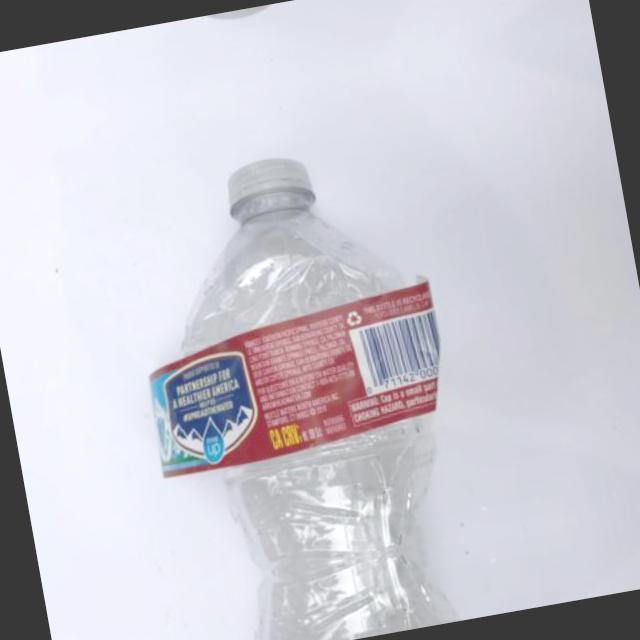Plastic: (112, 110, 495, 586), (186, 533, 508, 640), (89, 0, 402, 62)
